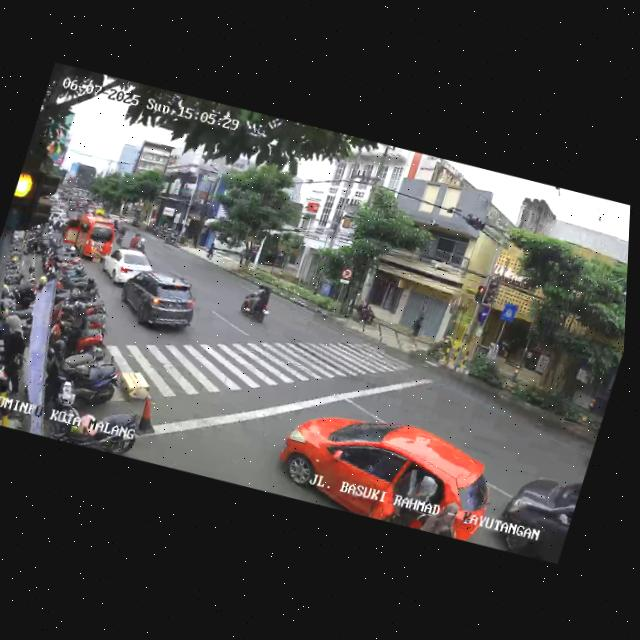car: (267, 392, 506, 548), (491, 465, 583, 566), (112, 262, 206, 343), (55, 206, 119, 265), (95, 242, 158, 293)
motorcycle: (235, 280, 277, 327), (128, 228, 152, 252)
